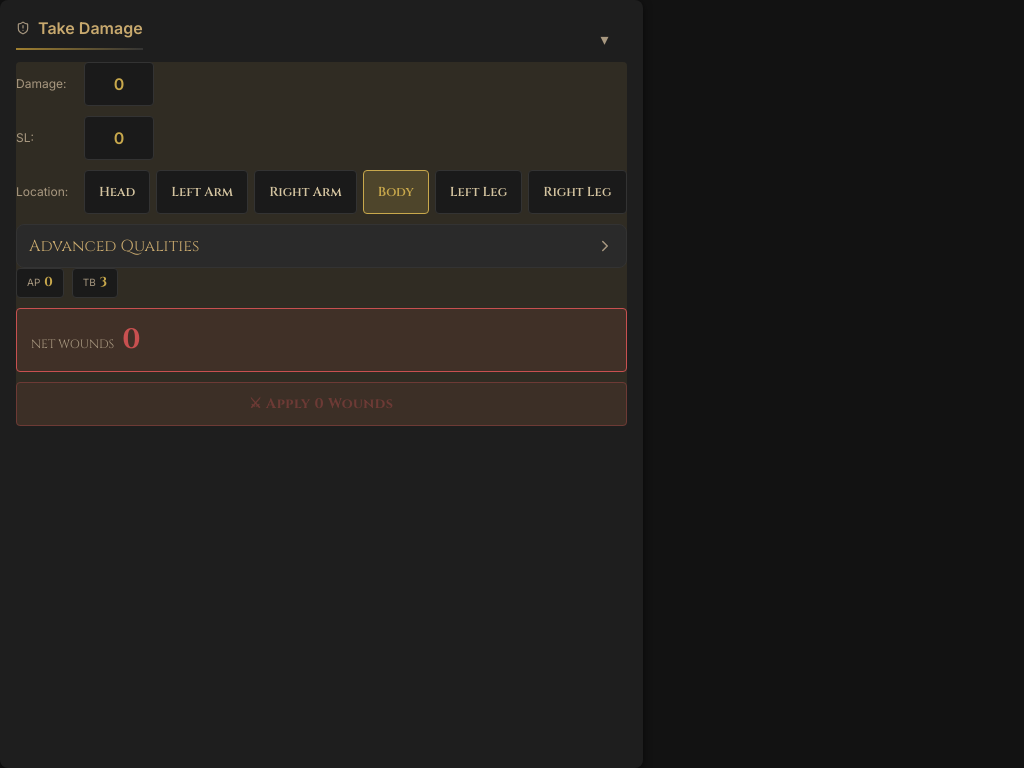
Test: Integration: TakeDamagePanel Critical Wound flow › Critical wound triggered with excess < TB → modifier is -20 › shows -20 modifier when excess damage is less than toughness bonus
Replace the text in the number field named "Incoming damage" with "14". click: point(119, 84)
box: [84,62,154,106]
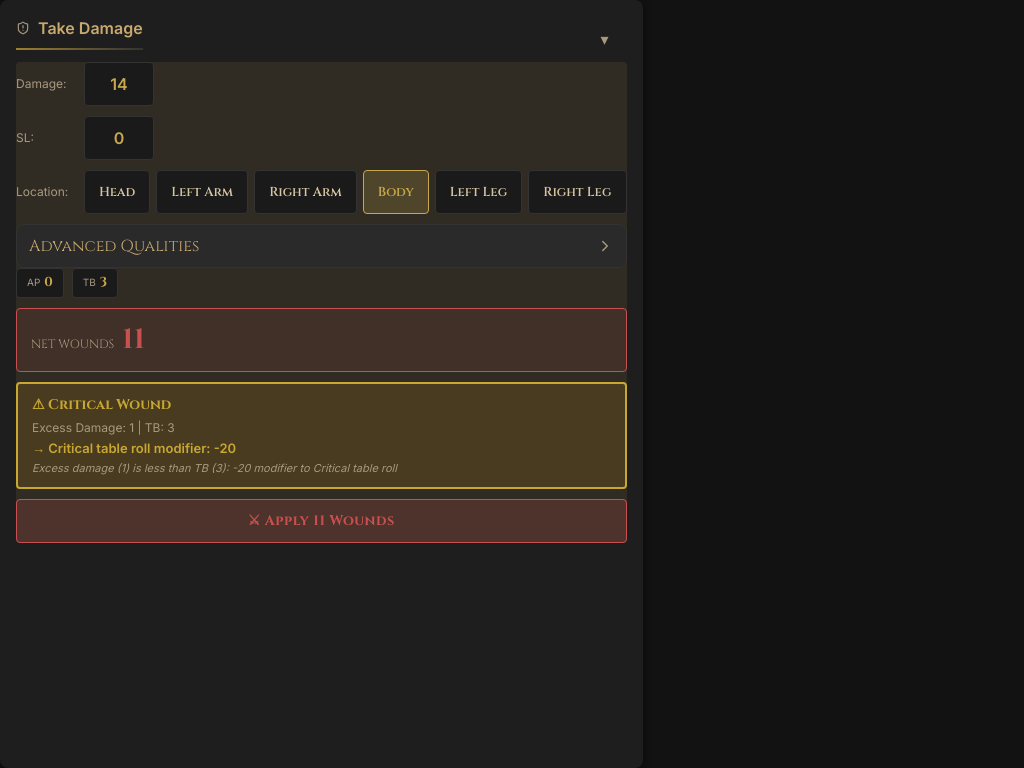
Expected: the message with test id "critical-wound-notification" shows "Excess Damage: 1", [16,382,626,488]
Expected: the message with test id "critical-wound-notification" shows "TB: 3", [16,382,626,488]
Expected: the message with test id "critical-wound-notification" shows "Critical table roll modifier: -20", [32,440,236,456]
